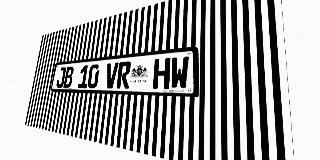0: (87, 64, 100, 88)
1: (78, 65, 90, 88)
B: (63, 66, 74, 88)
H: (153, 58, 171, 89)
J: (56, 67, 66, 88)
R: (116, 61, 131, 89)
V: (104, 62, 119, 88)
W: (170, 56, 189, 89)
